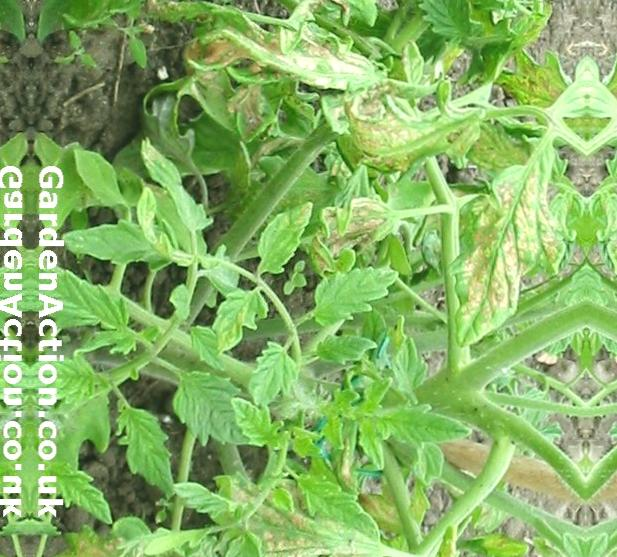Tomato leaf mosaic virus: (170, 372, 267, 448), (138, 143, 219, 230), (286, 464, 379, 539), (111, 400, 174, 497), (313, 266, 399, 328), (68, 222, 173, 267), (362, 408, 480, 446), (254, 203, 315, 274), (52, 459, 116, 522), (205, 288, 264, 351), (246, 345, 296, 406), (412, 0, 484, 41), (227, 521, 269, 557)
